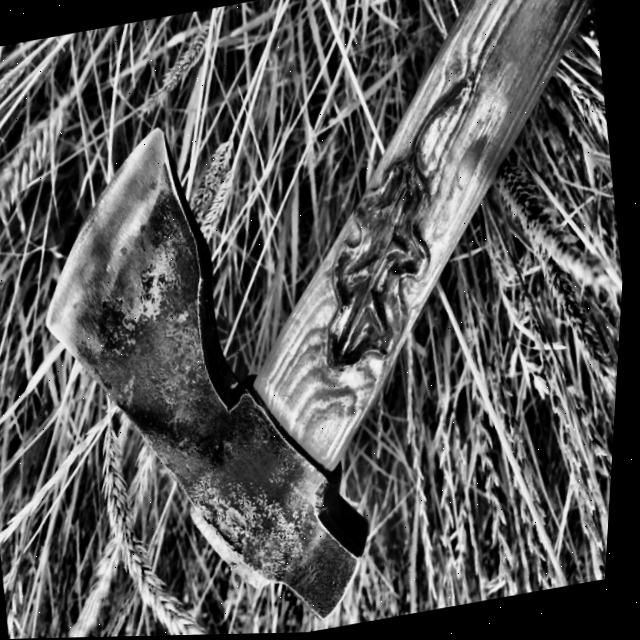kapak: (36, 0, 593, 624)
